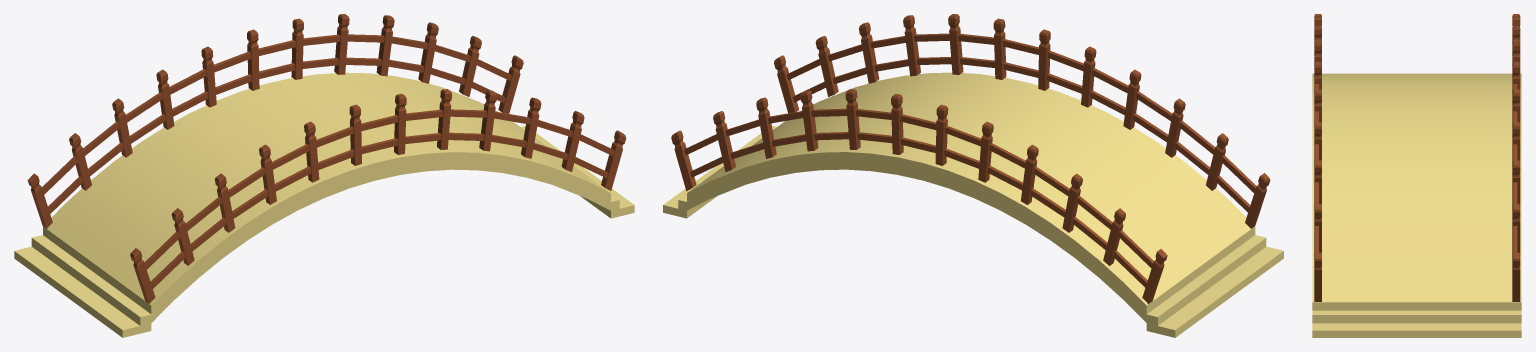
File: qiao1.FBX
The picture shows the model from 3 angles, left to right: view 1: azimuth 30°, elevation 25°; view 2: azimuth 150°, elevation 25°; view 3: azimuth 270°, elevation 25°; orthographic projection. The views are drawn at different scales.
Parts seen in each view (by area): view 1: Plane001, Box060, Box138, Box132, Box126, Box054, Box066, Box048, Box120, Box042, Box114, Box108 (+6 smaller); view 2: Plane001, Box066, Box060, Box132, Box126, Box054, Box048, Box114, Box138, Box120, Box042, Box036 (+7 smaller); view 3: Plane001, Box066, Box138, Box060, Box054.
Part boxes in pixels (<box>): Plane001: <box>14,72,634,337</box>; Box060: <box>459,49,479,96</box>; Box138: <box>601,143,622,190</box>; Box132: <box>561,124,581,171</box>; Box126: <box>521,111,539,158</box>; Box054: <box>418,36,436,83</box>; Box066: <box>498,68,520,113</box>; Box048: <box>376,29,392,76</box>; Box120: <box>479,104,495,151</box>; Box042: <box>334,28,348,74</box>; Box114: <box>437,103,451,149</box>; Box108: <box>394,108,406,154</box>; Plane001: <box>663,72,1283,337</box>; Box066: <box>674,143,696,191</box>; Box060: <box>715,124,735,171</box>; Box132: <box>818,49,838,96</box>; Box126: <box>861,36,879,83</box>; Box054: <box>758,111,776,158</box>; Box048: <box>802,104,818,151</box>; Box114: <box>949,28,963,74</box>; Box138: <box>777,68,799,113</box>; Box120: <box>904,29,920,76</box>; Box042: <box>846,103,860,149</box>; Box036: <box>891,108,903,154</box>; Plane001: <box>1312,73,1521,337</box>; Box066: <box>1512,270,1520,301</box>; Box138: <box>1314,270,1321,301</box>; Box060: <box>1512,221,1520,252</box>; Box054: <box>1512,178,1520,204</box>.
Size of the model in its own units: 15.2 by 4.88 by 5.58.
